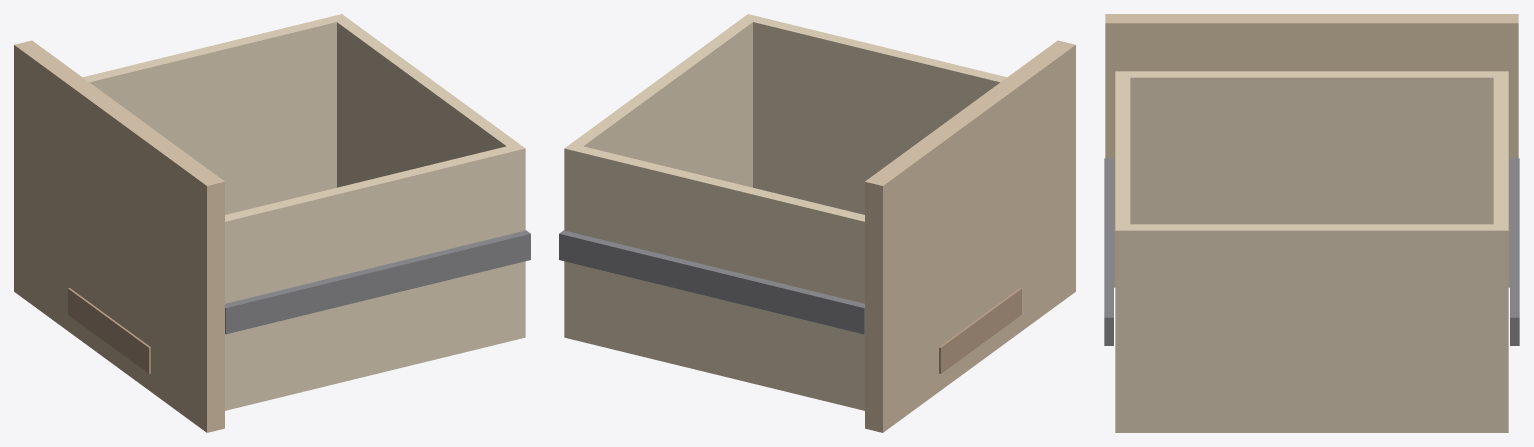
Rendered from drawer_bottom.glb.
3 views of the same model, side by side, from view 1: azimuth 30°, elevation 25°; view 2: azimuth 150°, elevation 25°; view 3: azimuth 270°, elevation 25° (orthographic). The views are drawn at different scales.
Visible parts, largest first — view 1: front, wall_z1, wall_z0, wall_x1, rail_r, floor, pull, wall_x0; view 2: front, wall_z0, wall_z1, wall_x1, rail_l, floor, pull, wall_x0; view 3: wall_x1, wall_x0, front, floor, wall_z0, wall_z1, rail_l, rail_r.
Part boxes in pixels (box(x1,y1,x2,y2)): front: box(14, 40, 224, 432); wall_z1: box(226, 146, 513, 399); wall_z0: box(83, 17, 336, 214); wall_x1: box(330, 14, 525, 330); rail_r: box(225, 230, 530, 334); floor: box(225, 328, 525, 410); pull: box(68, 288, 150, 373); wall_x0: box(225, 215, 232, 401); front: box(865, 40, 1075, 432); wall_z0: box(576, 146, 863, 399); wall_z1: box(753, 17, 1006, 214); wall_x1: box(564, 14, 759, 330); rail_l: box(559, 230, 864, 334); floor: box(564, 328, 864, 410); pull: box(939, 288, 1021, 373); wall_x0: box(857, 215, 864, 401); wall_x1: box(1115, 224, 1508, 422); wall_x0: box(1115, 71, 1508, 224); front: box(1105, 14, 1518, 287); floor: box(1115, 423, 1508, 432); wall_z0: box(1493, 77, 1508, 224); wall_z1: box(1115, 77, 1130, 224); rail_l: box(1510, 158, 1519, 345); rail_r: box(1104, 158, 1113, 345).
Size of the model in its own units: 0.324 by 0.235 by 0.335.
